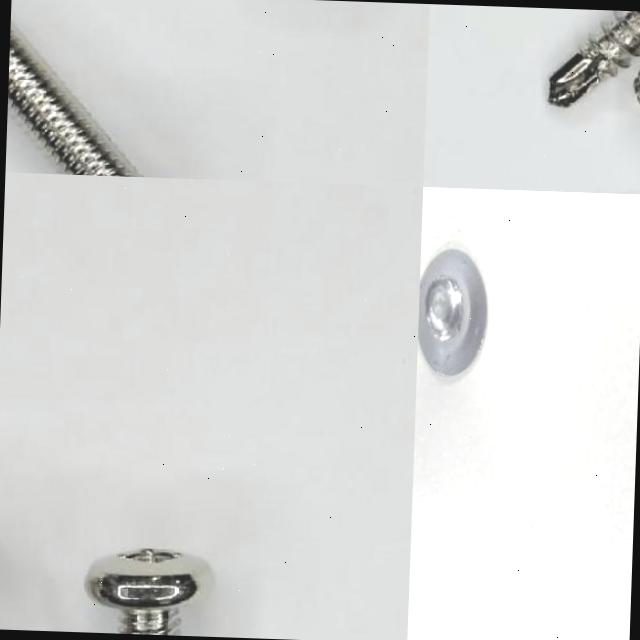Screw: (7, 24, 142, 177), (417, 245, 492, 384), (85, 550, 206, 635), (549, 11, 640, 107)
